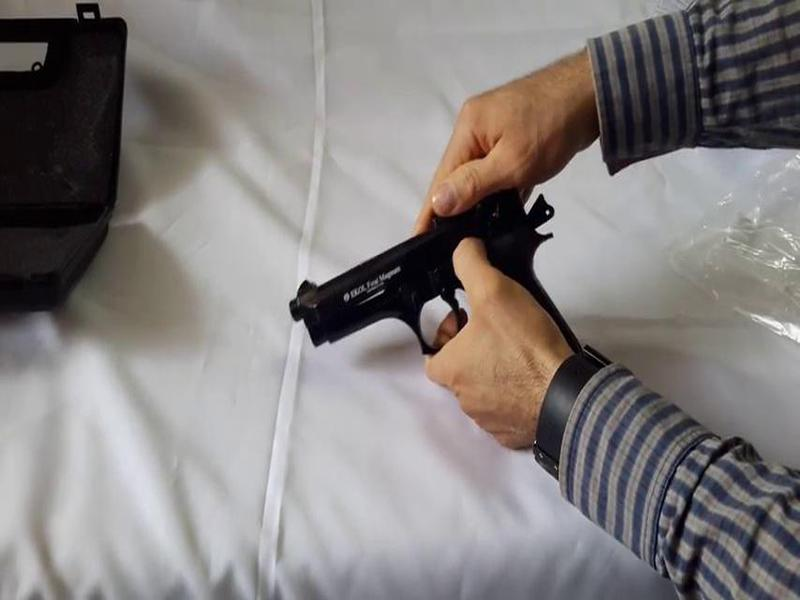Pistola: (294, 171, 577, 417)
